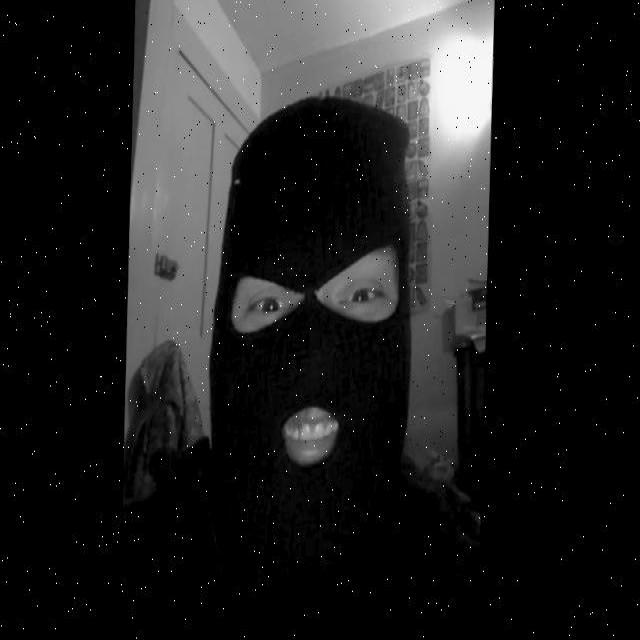6_pasamontana: (207, 95, 413, 580)
